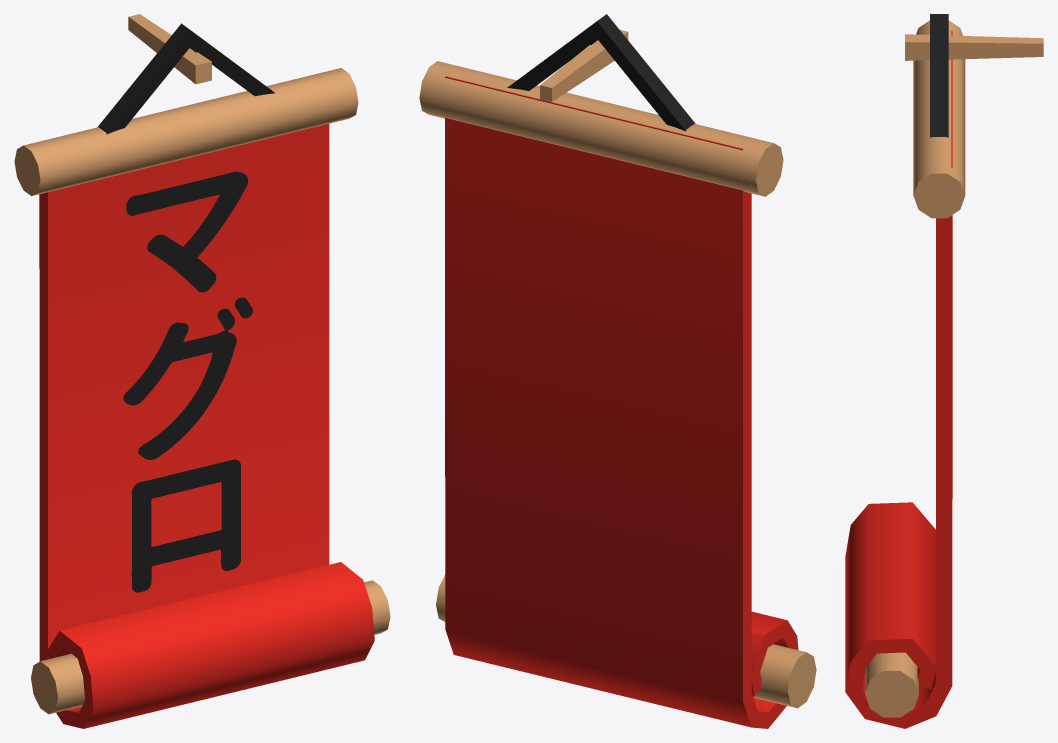
The model's file is Decoration Sign 3.glb.
The picture shows the model from 3 angles, left to right: view 1: azimuth 30°, elevation 25°; view 2: azimuth 150°, elevation 25°; view 3: azimuth 270°, elevation 25°; orthographic projection. The views are drawn at different scales.
Visible parts, largest first — view 1: Decoration_Sign_3; view 2: Decoration_Sign_3; view 3: Decoration_Sign_3.
Part boxes in pixels (x1,y1,x2,y2): Decoration_Sign_3: (14,14,390,728); Decoration_Sign_3: (419,14,816,728); Decoration_Sign_3: (845,14,1043,728).
Bounding box in the file's own units: 1.67 × 3.12 × 0.8673.
Materials: 1 (1 with a texture image).
